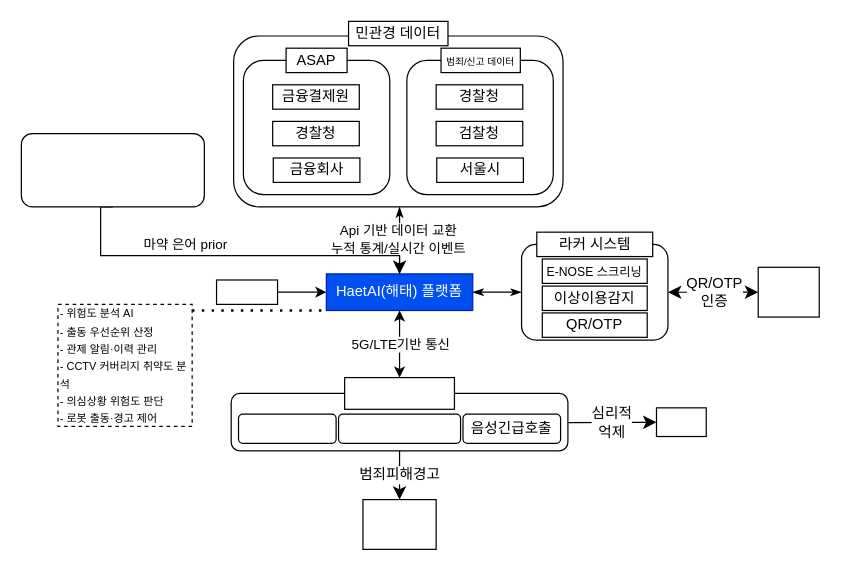
The diagram is 841 pixels wide and 571 high, and some of its shapes have lost their labels. The centre of each missing label's shape, as x and y in pixels:
"CCTV" goes at pixel 246 291.
"E-nose 모듈" goes at pixel 286 428.
"SNS 언급량·신고검거 통계 집계 (월간·분기, 비식별)" goes at pixel 112 169.
"광학센서(카메라)" goes at pixel 399 428.
"범죄자" goes at pixel 680 422.
"사용자" goes at pixel 788 291.
"시민" goes at pixel 399 523.
"해치(로봇)" goes at pixel 398 392.
